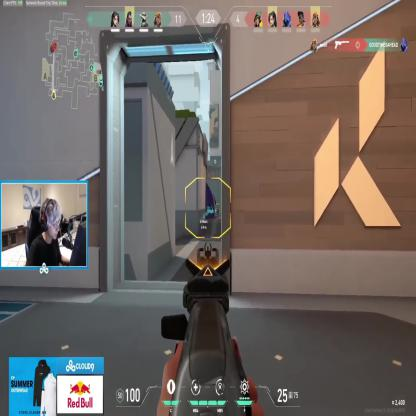enemy: (216, 200, 220, 215)
enemy_head: (217, 200, 219, 203)
